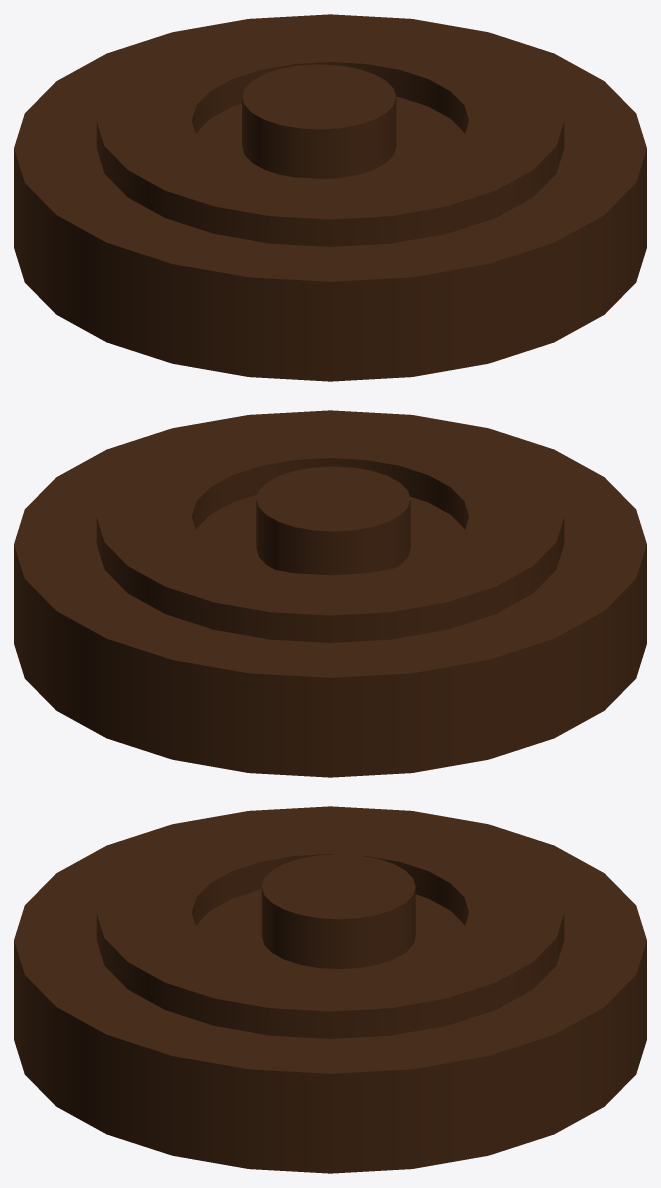
Rendered from ArcheryTarget.fbx.
The picture shows the model from 3 angles, top to bottom: view 1: azimuth 30°, elevation 25°; view 2: azimuth 150°, elevation 25°; view 3: azimuth 270°, elevation 25°; orthographic projection.
Visible parts, largest first — view 1: cylinder (×2), cylinderHollow; view 2: cylinder (×2), cylinderHollow; view 3: cylinder (×2), cylinderHollow.
Part boxes in pixels (bbox=[...]): cylinder (×2): bbox=[14, 14, 646, 381]; cylinderHollow: bbox=[96, 21, 564, 246]; cylinder (×2): bbox=[14, 410, 646, 777]; cylinderHollow: bbox=[96, 417, 564, 642]; cylinder (×2): bbox=[14, 806, 646, 1173]; cylinderHollow: bbox=[96, 813, 564, 1038].
Size of the model in its own units: 11.5 by 3 by 11.5.
